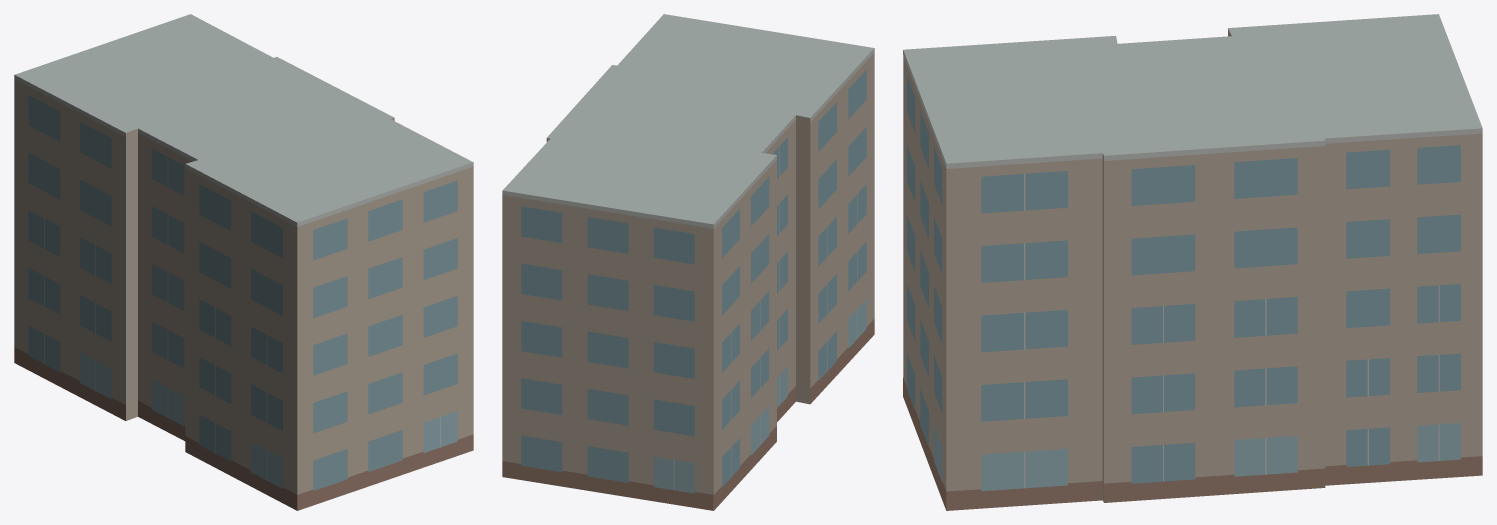
The model's file is survey-upis-32676370.glb.
3 views of the same model, side by side, from view 1: azimuth 30°, elevation 25°; view 2: azimuth 150°, elevation 25°; view 3: azimuth 270°, elevation 25° (orthographic). The views are drawn at different scales.
Visible parts, largest first — view 1: survey-upis-32676370.tmp; view 2: survey-upis-32676370.tmp; view 3: survey-upis-32676370.tmp.
Part boxes in pixels (x1,y1,x2,y2): survey-upis-32676370.tmp: (14,14,473,510); survey-upis-32676370.tmp: (502,14,874,510); survey-upis-32676370.tmp: (903,14,1482,510).
Bounding box in the file's own units: 14.94 × 16.14 × 24.43.
